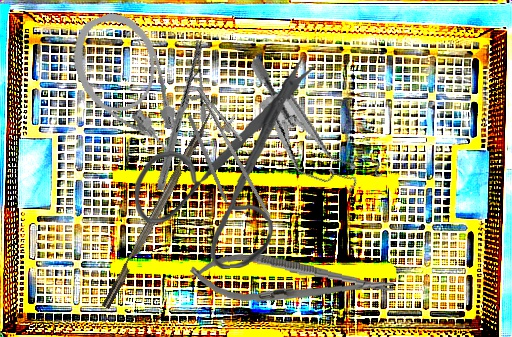Cannula: (61, 3, 192, 173)
Chopper: (92, 97, 221, 310), (182, 115, 234, 219)
Iris Scissors: (128, 53, 326, 274)
Needle Holder: (124, 38, 236, 192), (181, 79, 296, 220), (187, 248, 397, 314)
Speculum: (219, 55, 407, 204)
